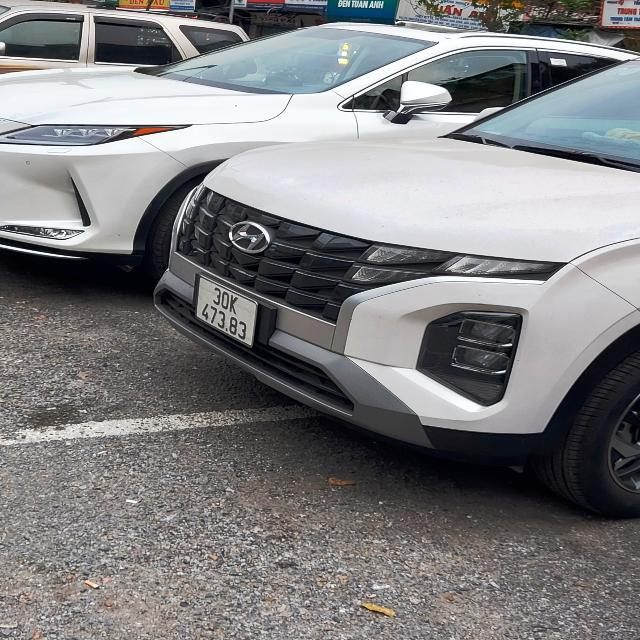license_plate: (189, 274, 266, 354)
